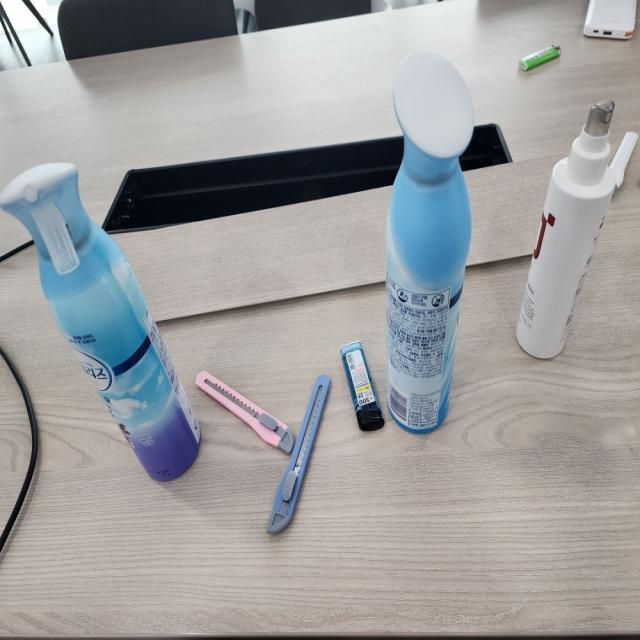cutter: (265, 374, 332, 546), (192, 366, 297, 456)
lighter: (518, 40, 564, 79)
spray: (0, 156, 205, 484), (388, 53, 473, 434), (514, 95, 624, 362)
